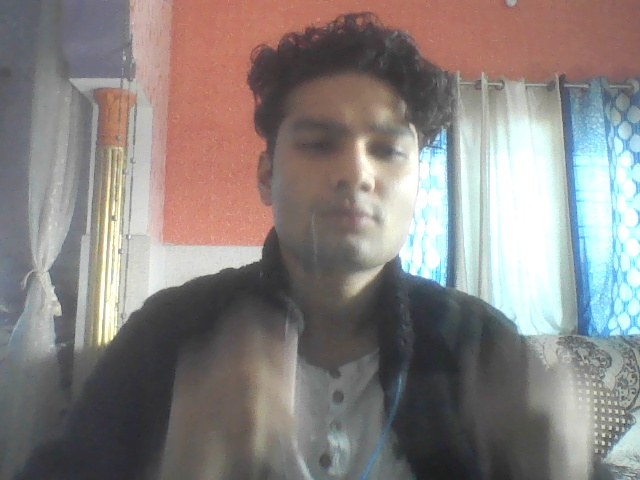real: (246, 16, 434, 282)
